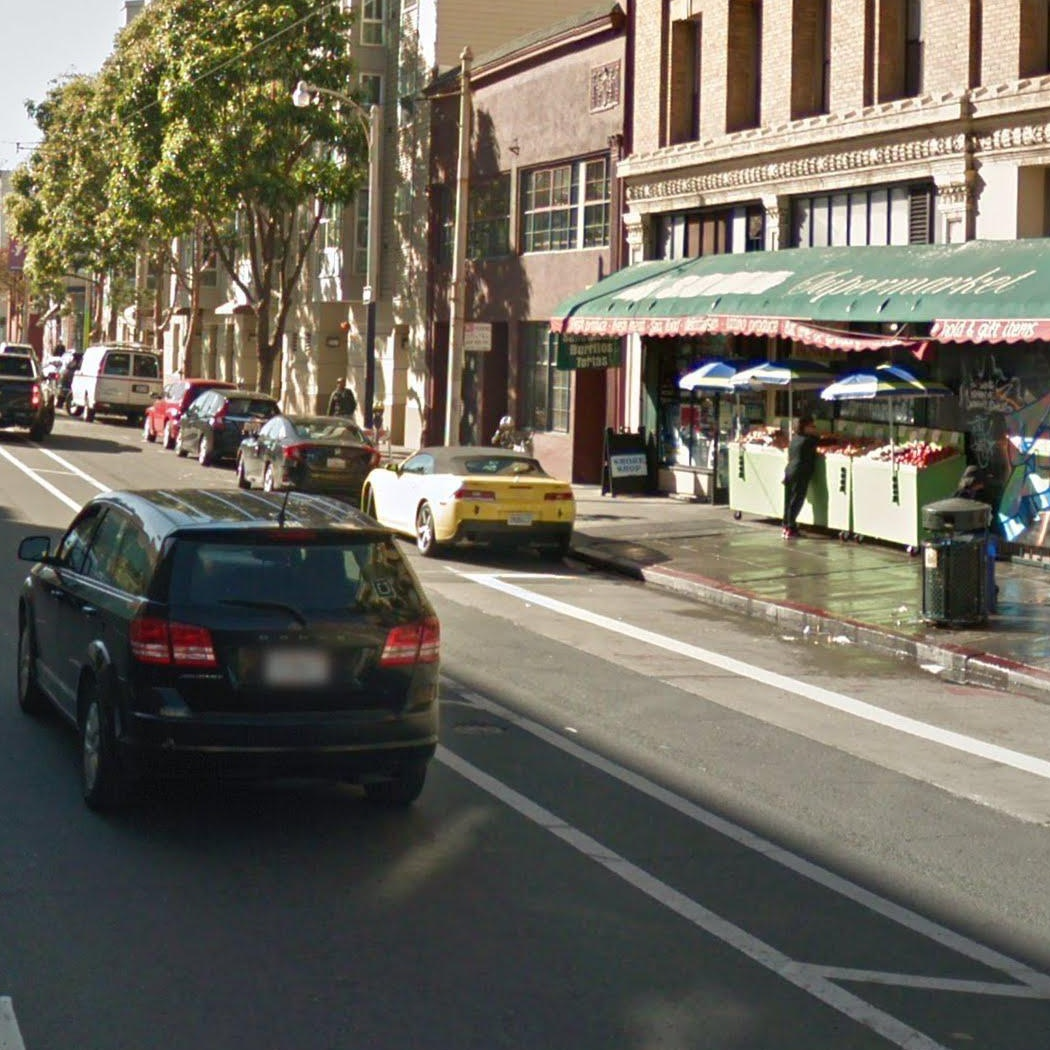No Parking: (463, 320, 493, 352)
